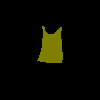canottiera: (37, 25, 62, 63)
